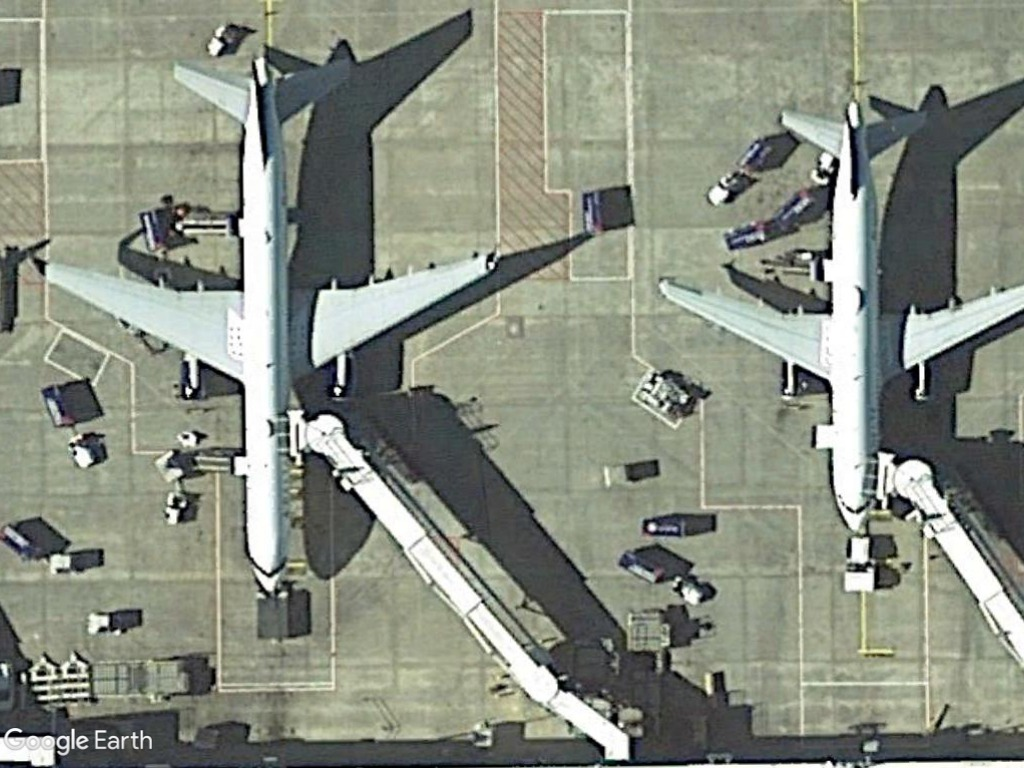airliner: (36, 44, 503, 600), (641, 99, 1023, 534)
